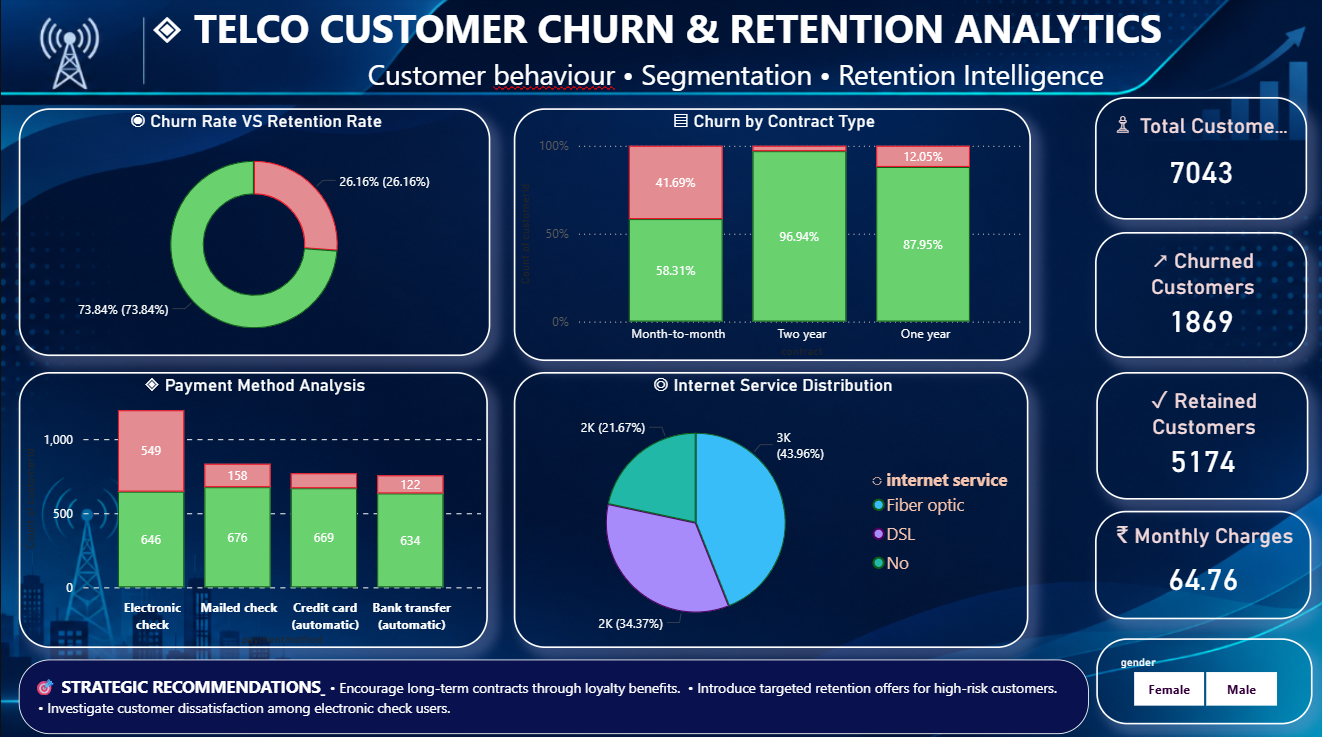

The page's visual inventory and layout, read from the dashboard file:
{"tool":"powerbi","page":{"name":"Page 1","canvas":[1280,720],"ordinal":0},"visuals":[{"type":"textbox","box":[140,0,1140.3,96.1],"z":0},{"type":"card","title":"♙ Total Customers","fields":{"Values":["cleaned_telco.Total Customers"]},"box":[1056.8,96.5,205.1,118.2],"z":1000},{"type":"card","title":"↗ Churned Customers","fields":{"Values":["cleaned_telco.Churned Customers"]},"box":[1056.8,226.8,205.1,121.9],"z":2000},{"type":"card","title":"✓ Retained Customers","fields":{"Values":["cleaned_telco.Retained Customers"]},"box":[1058,361.9,205.1,123.1],"z":3000},{"type":"donutChart","title":"◉ Churn Rate VS Retention Rate","fields":{"Y":["cleaned_telco.Churn Rate","cleaned_telco.Retention Rate"]},"box":[18.1,107.4,454.8,238.9],"z":4000},{"type":"slicer","fields":{"Values":["cleaned_telco.gender"]},"box":[1058,618.9,208.7,92.9],"z":5000},{"type":"hundredPercentStackedColumnChart","title":"▤ Churn by Contract Type","fields":{"Category":["cleaned_telco.contract"],"Series":["cleaned_telco.churn"],"Y":["Count(cleaned_telco.customerid)"]},"box":[495.8,107.4,499.5,243.7],"z":6000},{"type":"columnChart","title":"◈ Payment Method Analysis","fields":{"Category":["cleaned_telco.paymentmethod"],"Y":["Count(cleaned_telco.customerid)"],"Series":["cleaned_telco.churn"]},"box":[18.1,361.9,452.4,266.6],"z":7000},{"type":"pieChart","title":"◎ Internet Service Distribution","fields":{"Category":["cleaned_telco.internetservice"],"Y":["cleaned_telco.Total Customers"]},"box":[495.8,361.9,497.1,266.6],"z":8000},{"type":"card","title":"₹ Monthly Charges","fields":{"Values":["cleaned_telco.Average Monthly Charges"]},"box":[1056.8,495.8,208.7,105],"z":9000},{"type":"textbox","box":[18.1,639.4,1032.7,72.4],"z":10000}]}

Visuals, with their boxes in screenshot pixels (x1, y1, x2, y2), scaled from the page's 1280x720 canvas onto the 1322x737 screenshot:
textbox: l=145, t=0, r=1321, b=98
"♙ Total Customers" card: l=1091, t=99, r=1303, b=220
"↗ Churned Customers" card: l=1091, t=232, r=1303, b=357
"✓ Retained Customers" card: l=1093, t=370, r=1305, b=496
"◉ Churn Rate VS Retention Rate" donutChart: l=19, t=110, r=488, b=354
slicer - cleaned_telco.gender: l=1093, t=634, r=1308, b=729
"▤ Churn by Contract Type" hundredPercentStackedColumnChart: l=512, t=110, r=1028, b=359
"◈ Payment Method Analysis" columnChart: l=19, t=370, r=486, b=643
"◎ Internet Service Distribution" pieChart: l=512, t=370, r=1025, b=643
"₹ Monthly Charges" card: l=1091, t=508, r=1307, b=615
textbox: l=19, t=654, r=1085, b=729
